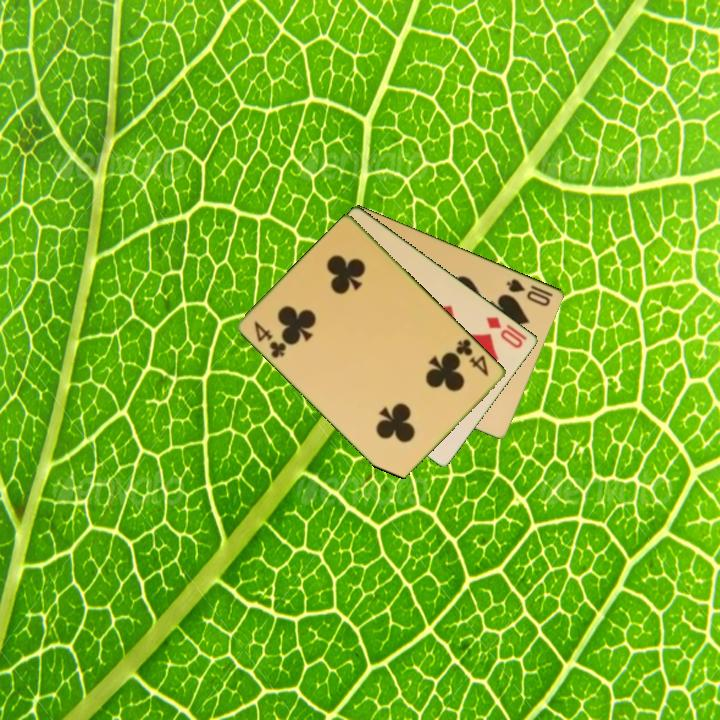10d: (483, 313, 526, 351)
10s: (503, 275, 554, 309)
4c: (452, 335, 492, 379), (251, 318, 290, 361)
